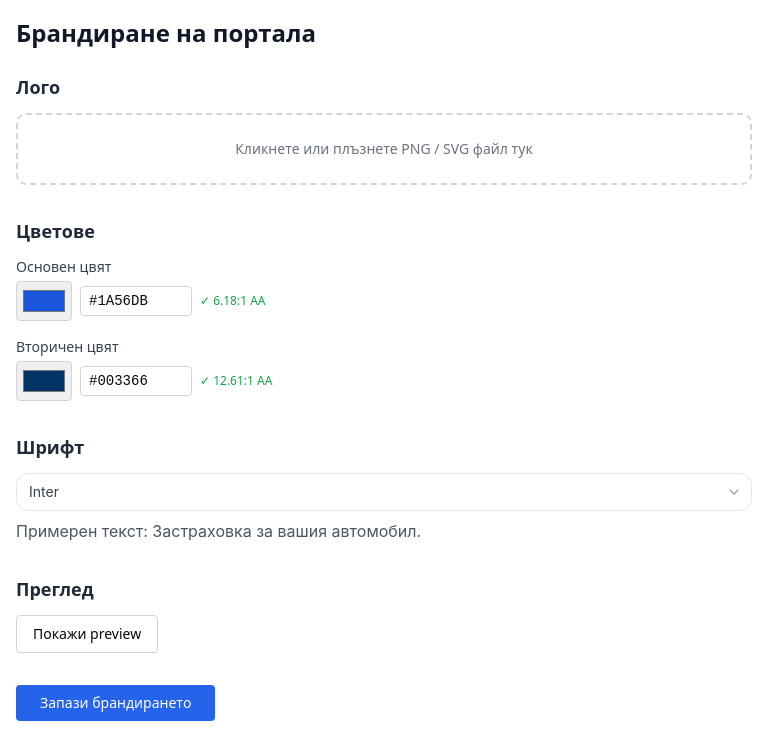
Test: BrandingPage › disables Запази button when primary color fails WCAG
Step 1. Replace the text in the field named "Основен цвят hex value" with "#FFFF00" → (136, 301), box x1=80 y1=286 x2=192 y2=316
(page scrolled)
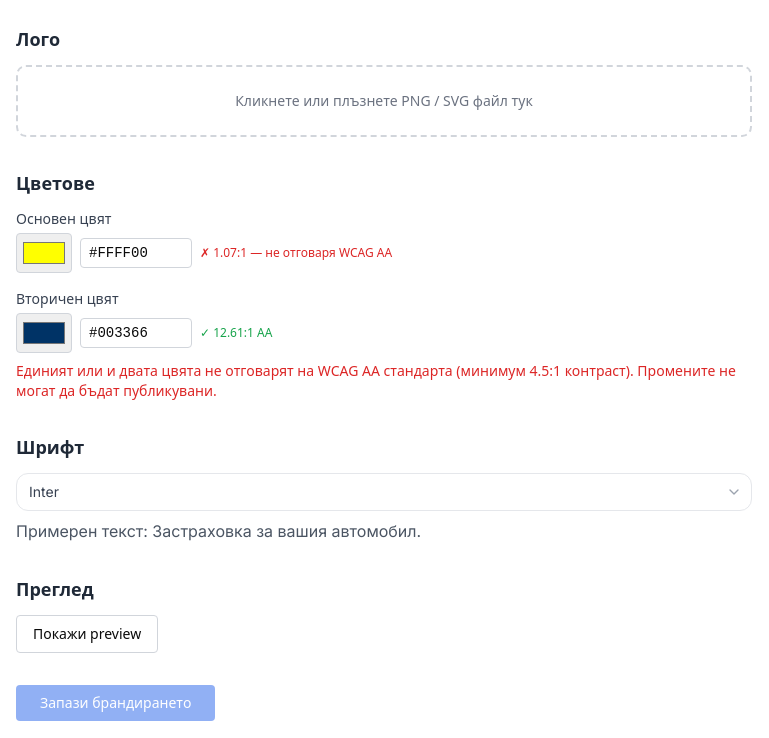
expect the button "Запази брандирането" is disabled: met, box x1=16 y1=685 x2=215 y2=721
